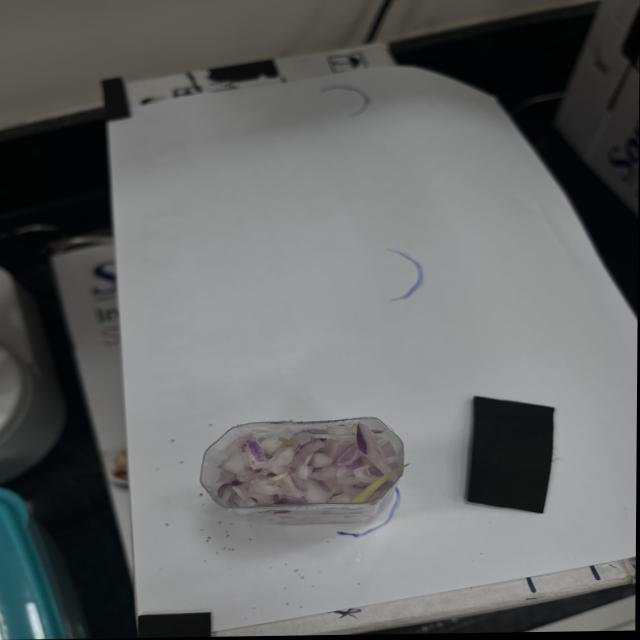sliced_onions: (211, 426, 403, 511)
